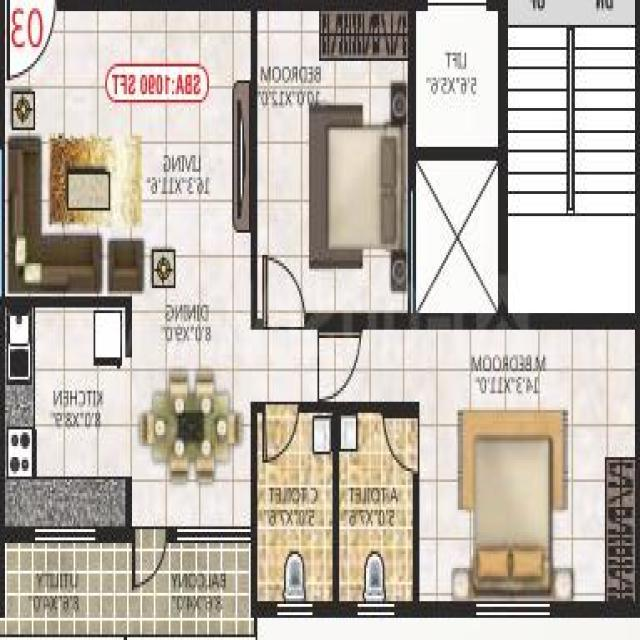Balcony-Sitout: (133, 529, 254, 635)
Bedroom: (257, 12, 408, 319)
Bedroom with Toilet: (318, 327, 636, 605)
Dining: (134, 366, 243, 485)
Enterance-Foyer: (5, 0, 59, 85)
Kitchen: (5, 306, 125, 527)
Living: (7, 11, 250, 296)
Toilet: (258, 414, 333, 602), (339, 413, 413, 601)
Utility: (3, 538, 131, 633)
